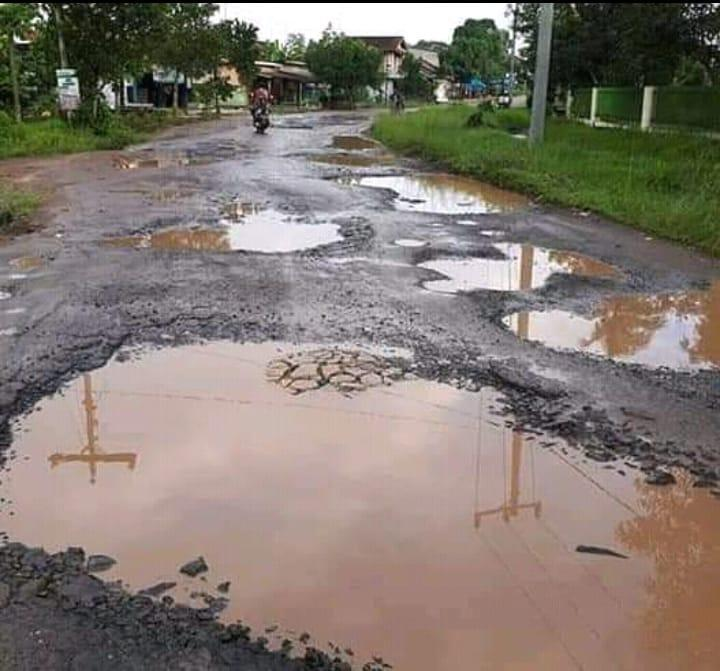Pothole: (0, 313, 720, 671), (317, 123, 559, 230), (61, 191, 372, 266), (373, 229, 655, 301), (497, 297, 720, 376), (33, 95, 252, 172)
